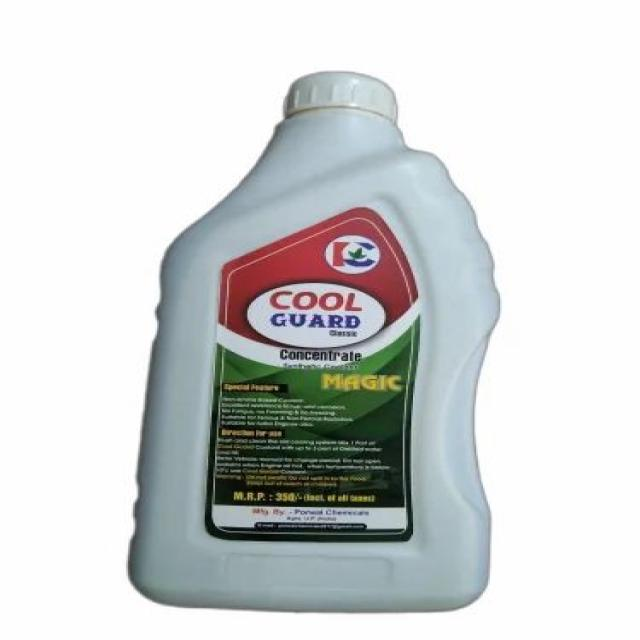coolant: (112, 54, 516, 618)
